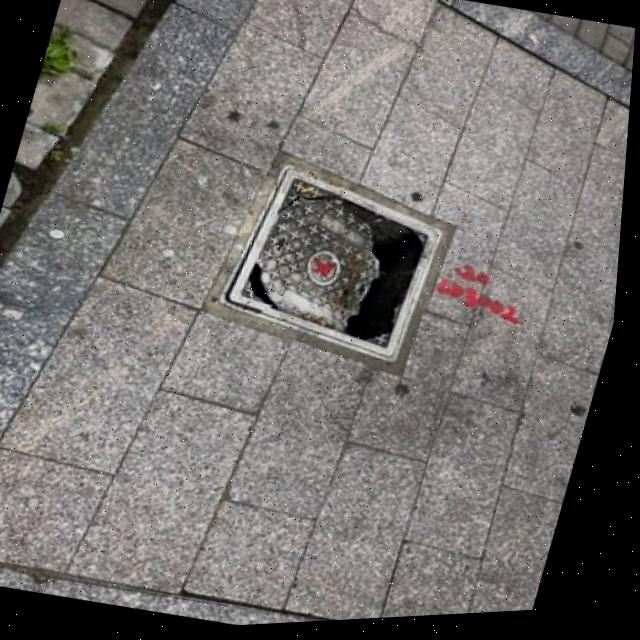manhole: (198, 139, 478, 391)
